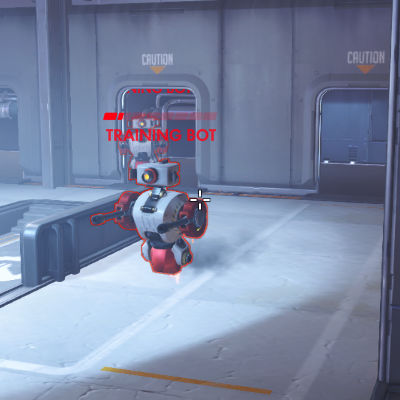hpbar: (103, 112, 217, 120)
